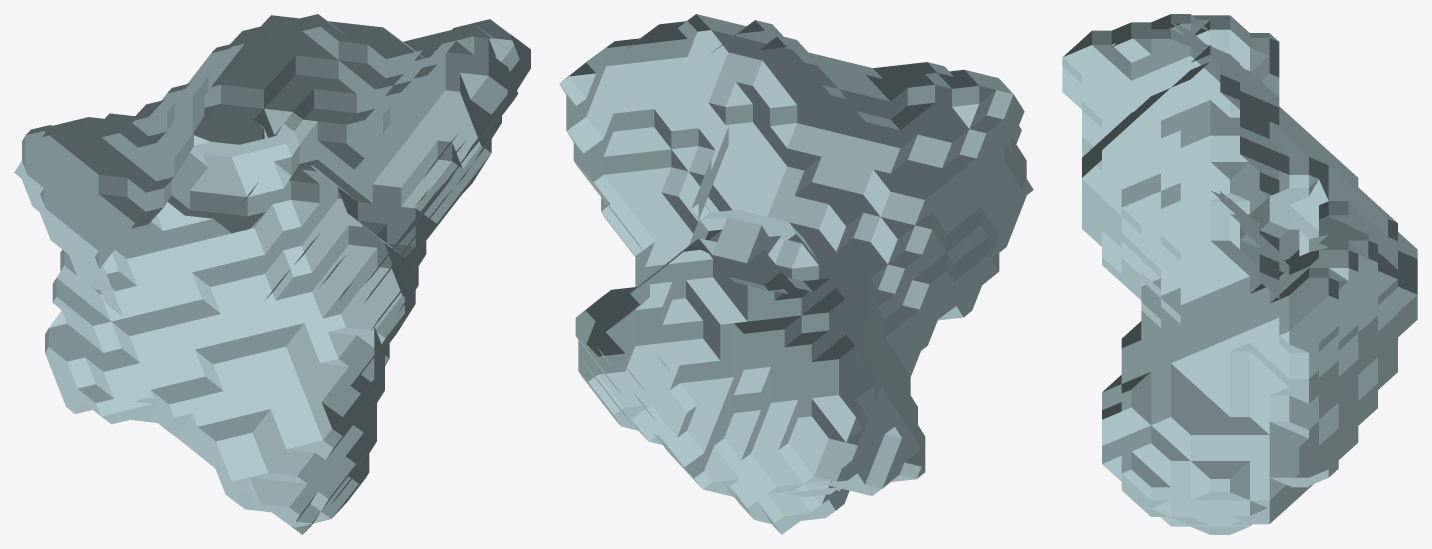
Rendered from region_0090_NC__commissural_nucleus_of_Cajal_.glb.
The picture shows the model from 3 angles, left to right: view 1: azimuth 30°, elevation 25°; view 2: azimuth 150°, elevation 25°; view 3: azimuth 270°, elevation 25°; orthographic projection. The views are drawn at different scales.
Parts seen in each view (by area): view 1: world; view 2: world; view 3: world.
Part boxes in pixels (x1=…): world: x1=14, y1=14, x2=530, y2=534; world: x1=559, y1=14, x2=1033, y2=534; world: x1=1062, y1=14, x2=1417, y2=534.
Size of the model in its own units: 0.216 by 0.208 by 0.144.
